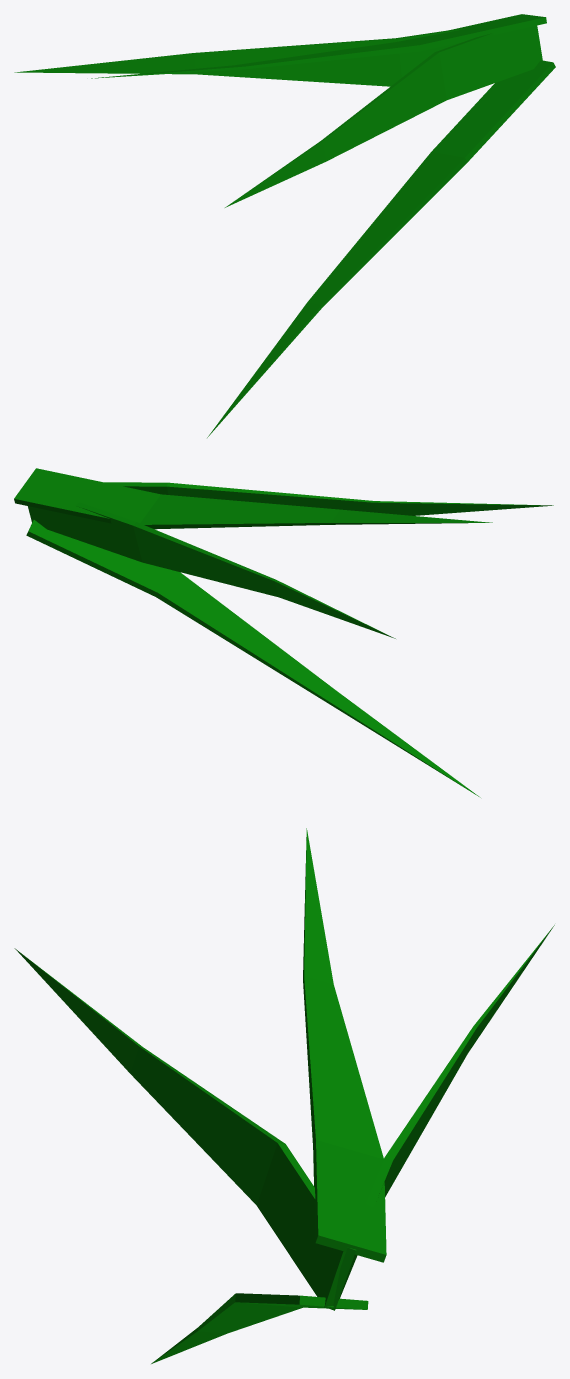
The model's file is ENVI_Rumput_2.fbx.
The picture shows the model from 3 angles, top to bottom: view 1: azimuth 30°, elevation 25°; view 2: azimuth 150°, elevation 25°; view 3: azimuth 270°, elevation 25°; orthographic projection. The views are drawn at different scales.
Parts seen in each view (by area): view 1: Rumput 2; view 2: Rumput 2; view 3: Rumput 2.
Boxes of the visible parts, x1=… form: Rumput 2: x1=14, y1=14, x2=555, y2=437; Rumput 2: x1=14, y1=468, x2=553, y2=797; Rumput 2: x1=14, y1=828, x2=554, y2=1363.
Size of the model in its own units: 131 by 90.15 by 90.2.
